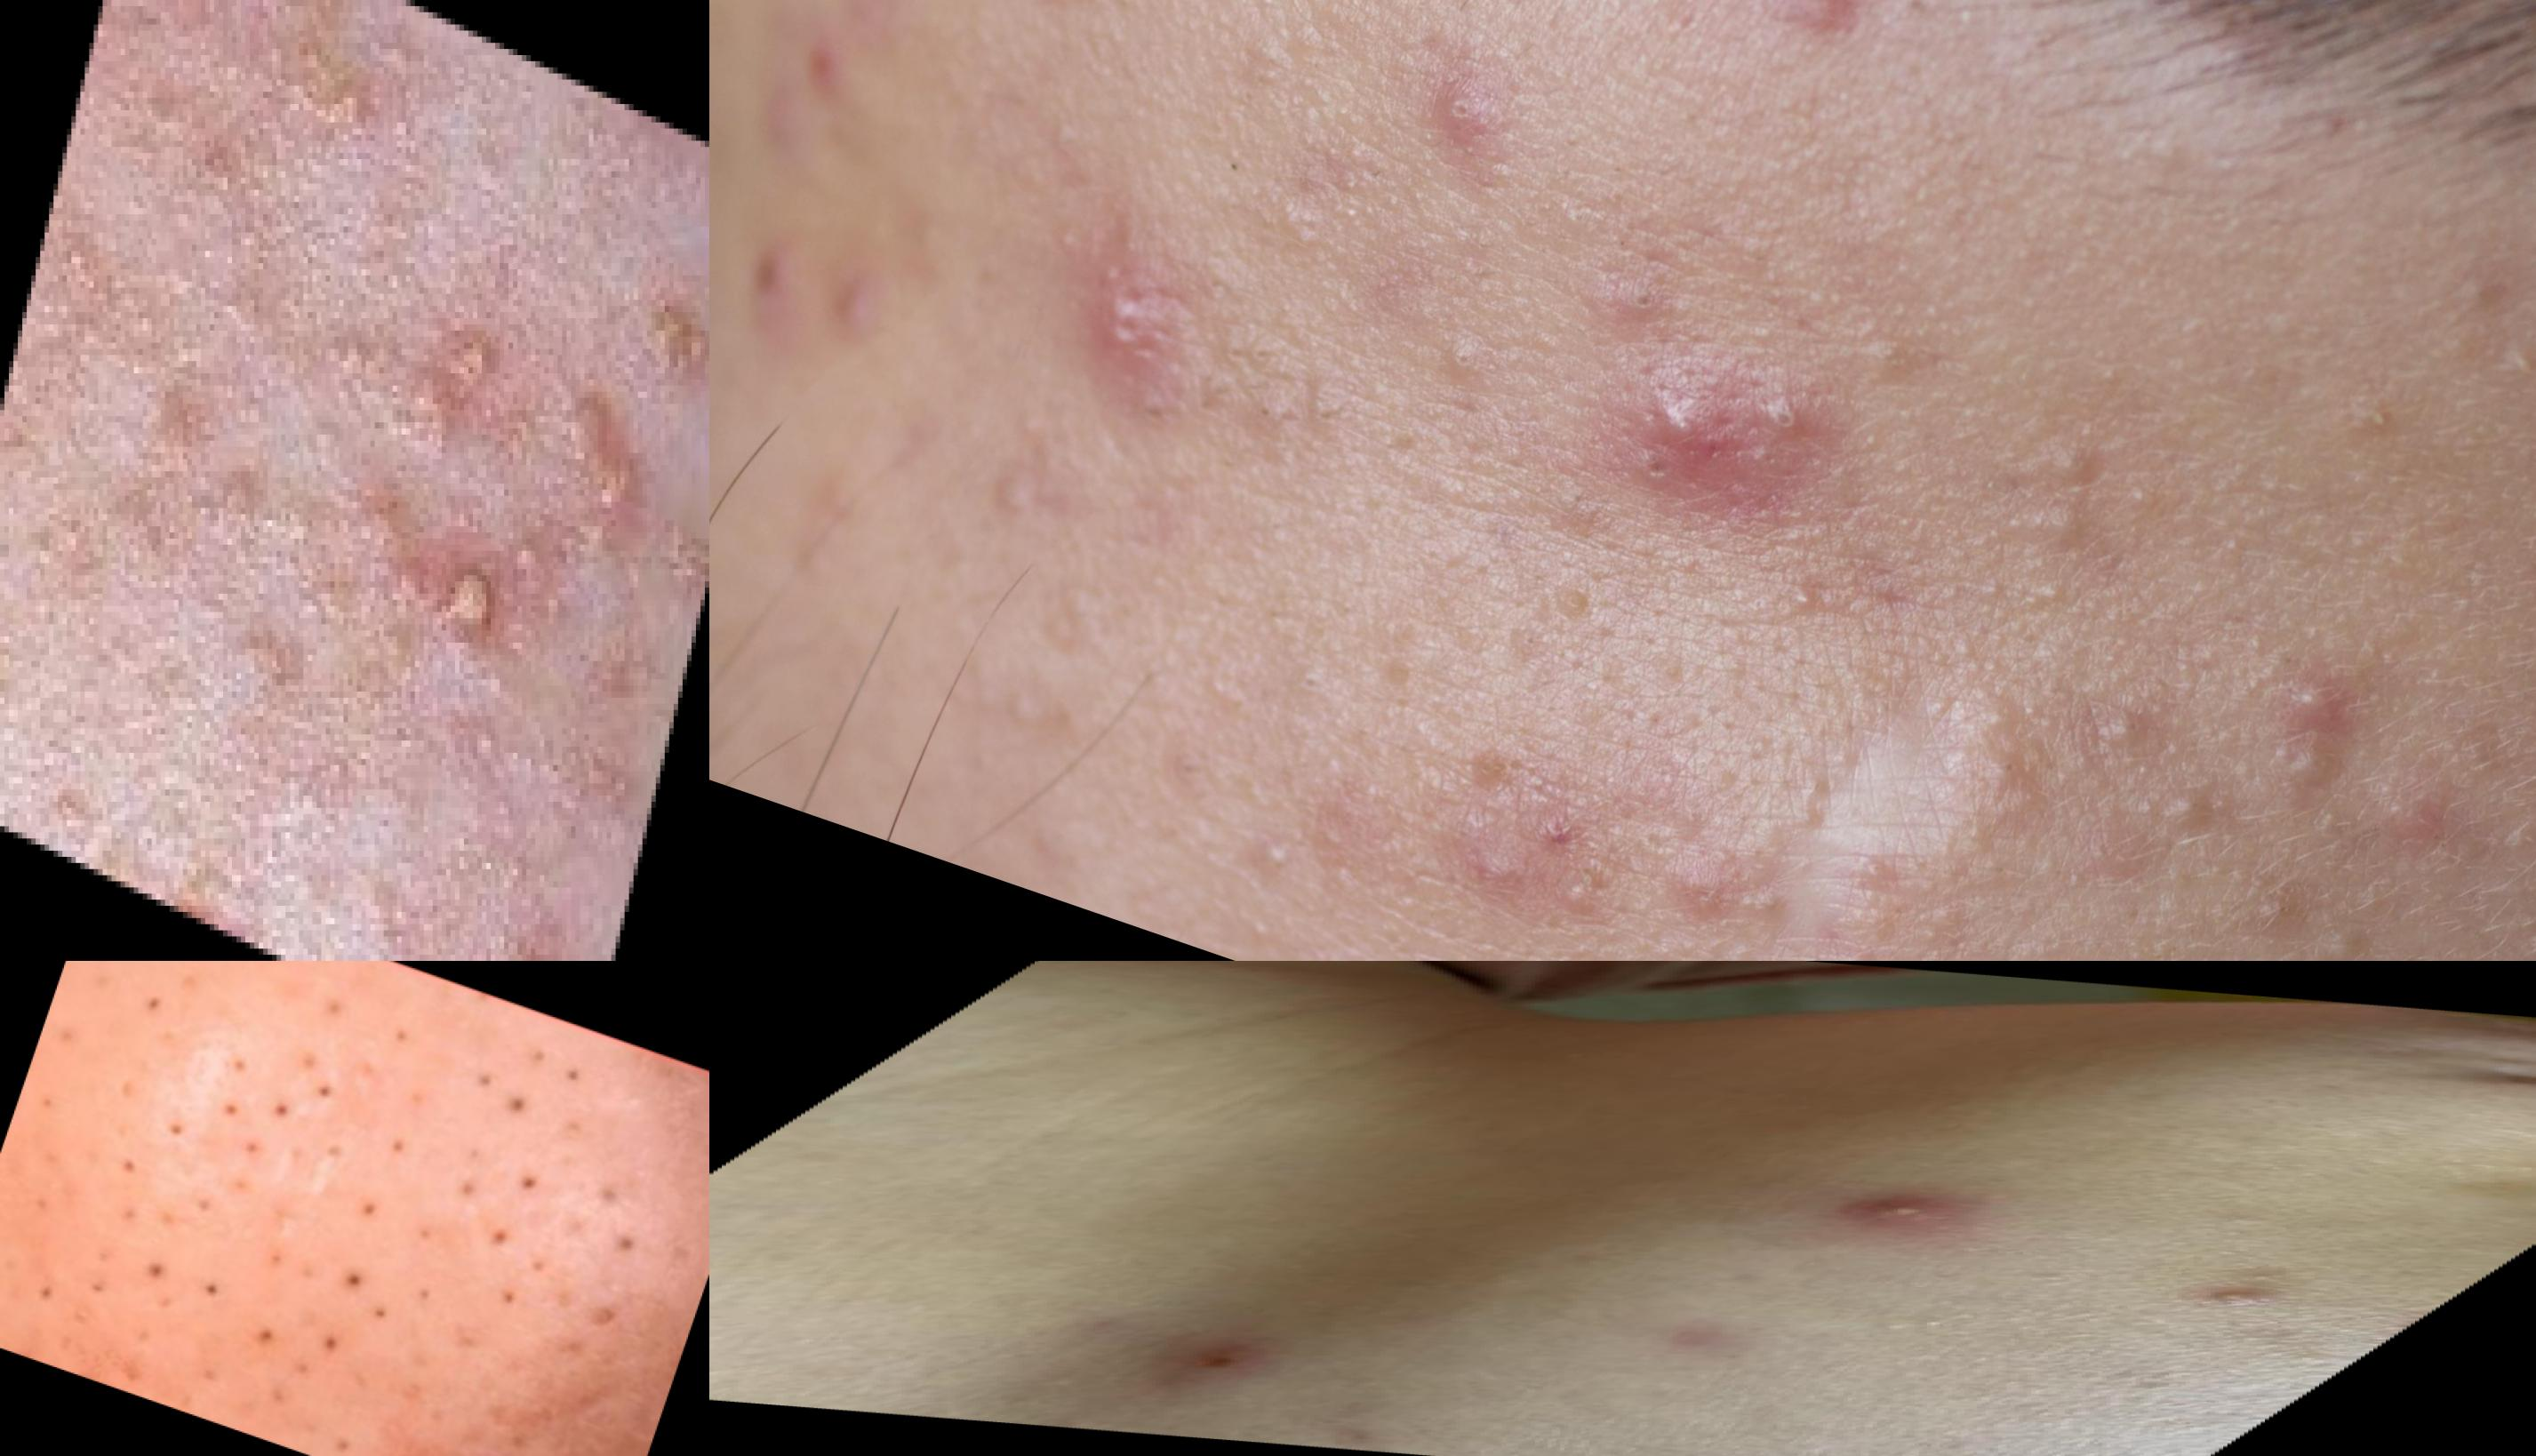blackhead: (9, 1198, 199, 1360), (1057, 237, 1224, 397), (1223, 334, 1381, 484), (212, 1024, 383, 1139), (190, 1059, 319, 1186), (2033, 401, 2162, 517), (1585, 253, 1721, 357), (456, 1212, 570, 1322), (80, 1141, 179, 1242), (1726, 373, 1829, 467), (449, 1054, 552, 1136), (1604, 428, 1686, 522), (172, 1252, 249, 1332), (364, 1005, 442, 1080), (489, 1146, 570, 1219), (296, 1308, 368, 1381), (228, 1304, 300, 1369), (320, 1249, 385, 1308), (340, 1183, 399, 1240), (120, 975, 176, 1031), (369, 1118, 427, 1172), (437, 1162, 488, 1214)
papular: (394, 289, 519, 479), (474, 869, 597, 961)
purulent: (376, 500, 531, 690), (1831, 1186, 1993, 1228), (2163, 1278, 2330, 1311), (2207, 1292, 2257, 1301)
sebo-crystan-conglo: (526, 354, 667, 561), (611, 209, 711, 441)
whitehead: (2217, 644, 2395, 808), (1205, 782, 1381, 930), (2106, 770, 2264, 878), (1766, 2, 1939, 78), (1737, 888, 1914, 961), (1878, 1313, 1987, 1338), (2228, 1264, 2332, 1289)
